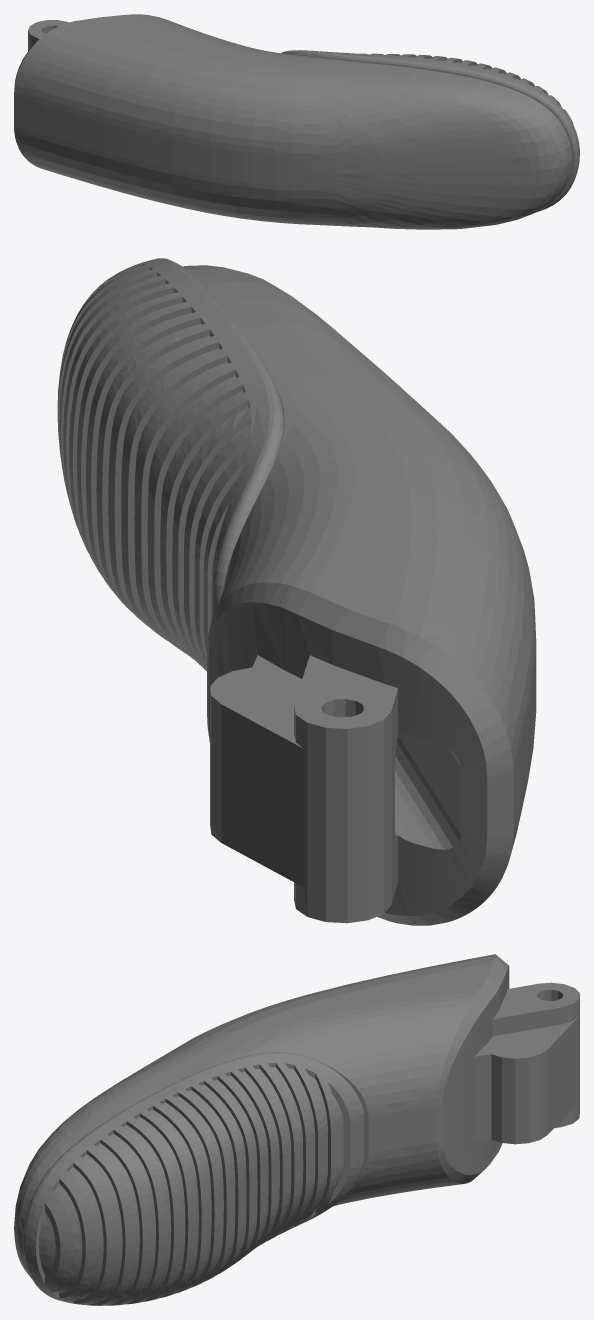
Rendered from rh_middle_distal_vis.obj.
3 views of the same model, one above another, from view 1: azimuth 30°, elevation 25°; view 2: azimuth 150°, elevation 25°; view 3: azimuth 270°, elevation 25° (orthographic). The views are drawn at different scales.
Parts seen in each view (by area): view 1: rh_middle_distal; view 2: rh_middle_distal; view 3: rh_middle_distal.
Boxes of the visible parts, x1=… form: rh_middle_distal: x1=14, y1=14, x2=579, y2=229; rh_middle_distal: x1=57, y1=258, x2=536, y2=925; rh_middle_distal: x1=14, y1=954, x2=579, y2=1305.
Size of the model in its own units: 0.0408 by 0.0159 by 0.042.
1 material, 1 textured.
